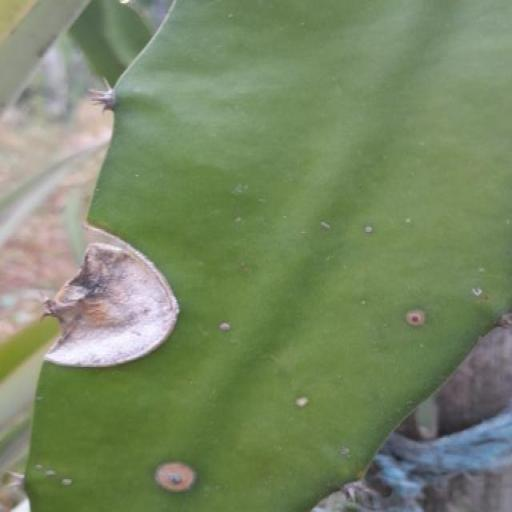stemcanker: (163, 155, 178, 198), (223, 298, 236, 331), (252, 16, 266, 42), (125, 90, 139, 111), (210, 38, 222, 59), (285, 264, 296, 284)
